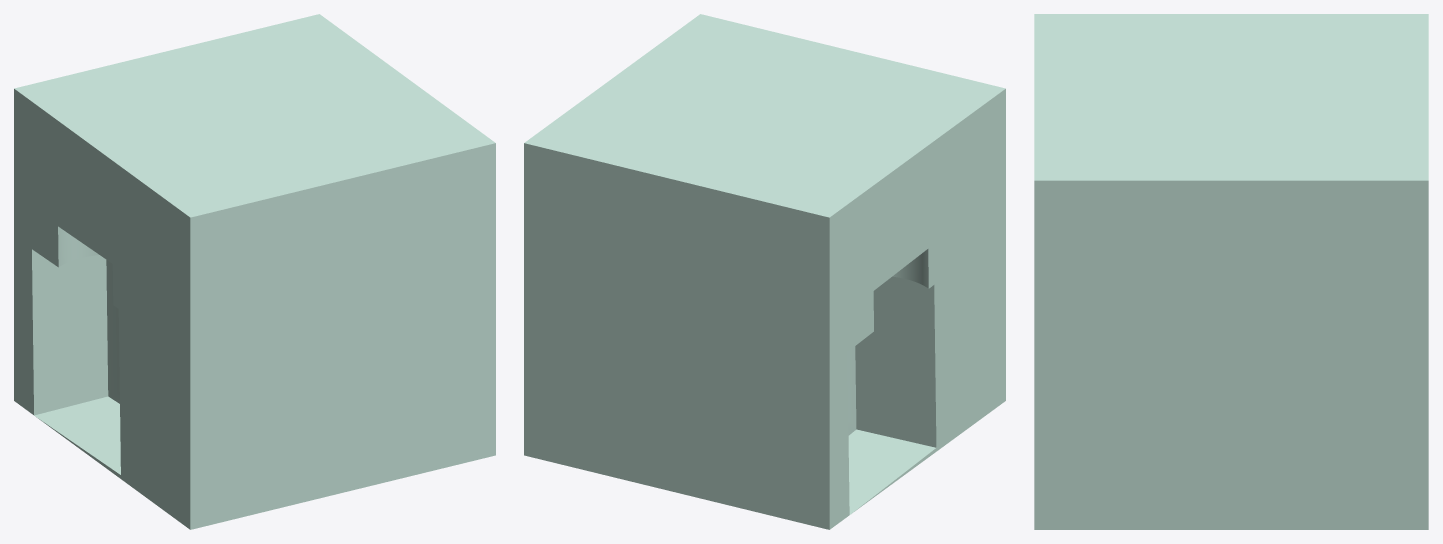
3 renders of one model, left to right at view 1: azimuth 30°, elevation 25°; view 2: azimuth 150°, elevation 25°; view 3: azimuth 270°, elevation 25°, orthographic. The views are drawn at different scales.
Visible parts, largest first — view 1: Renderer Node; view 2: Renderer Node; view 3: Renderer Node.
Boxes of the visible parts, bbox=[...] form: Renderer Node: bbox=[14, 14, 495, 529]; Renderer Node: bbox=[524, 14, 1005, 529]; Renderer Node: bbox=[1034, 14, 1428, 529].
Size of the model in its own units: 1.02 by 0.9922 by 1.02.
